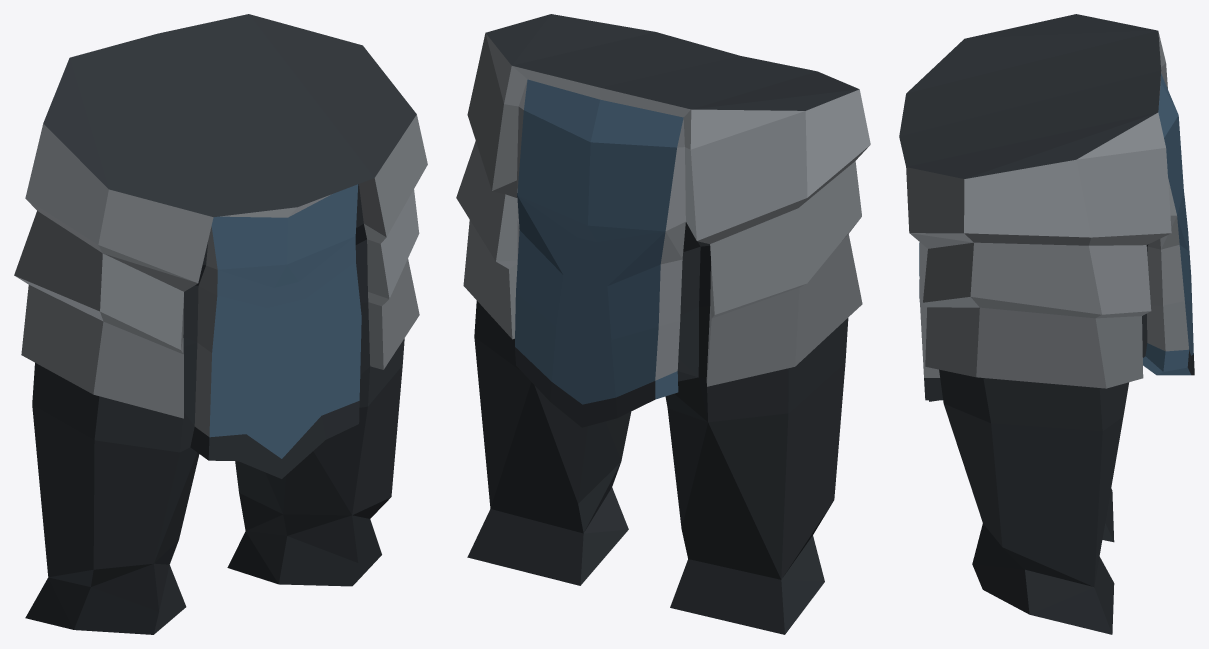
File: Chr_Hips_Male_19_Static.fbx
3 views of the same model, side by side, from view 1: azimuth 30°, elevation 25°; view 2: azimuth 150°, elevation 25°; view 3: azimuth 270°, elevation 25° (orthographic). The views are drawn at different scales.
Parts seen in each view (by area): view 1: Chr_Hips_Male_19_Static; view 2: Chr_Hips_Male_19_Static; view 3: Chr_Hips_Male_19_Static.
Boxes of the visible parts, box(x1,y1,x2,y2) form: Chr_Hips_Male_19_Static: box(14, 14, 427, 634); Chr_Hips_Male_19_Static: box(456, 14, 870, 634); Chr_Hips_Male_19_Static: box(899, 14, 1194, 634).
Bounding box in the file's own units: 0.3861 × 0.5545 × 0.3018.
